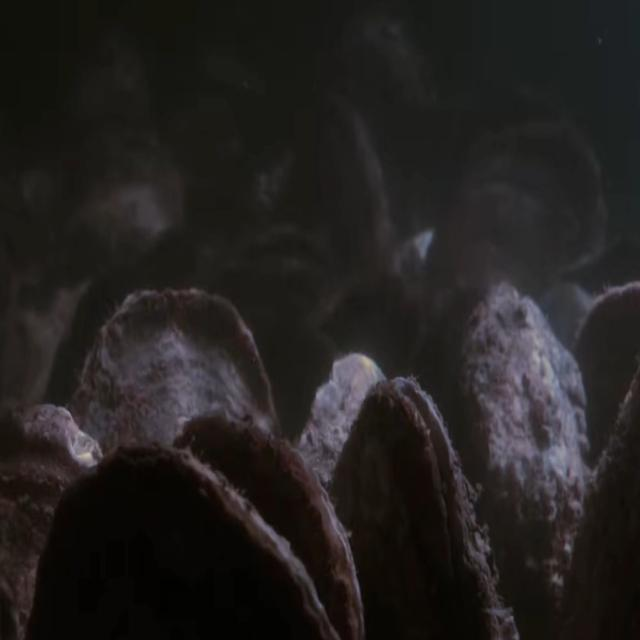Oyster-Closed: (29, 441, 340, 640), (172, 409, 365, 640), (0, 402, 103, 640)
Oyster-Indeterminate: (68, 289, 282, 640), (451, 280, 592, 640), (422, 122, 608, 331), (296, 351, 388, 640), (287, 88, 398, 288), (61, 140, 187, 272), (572, 281, 640, 507)
Oyster-Open: (330, 375, 516, 640), (213, 220, 344, 330)
